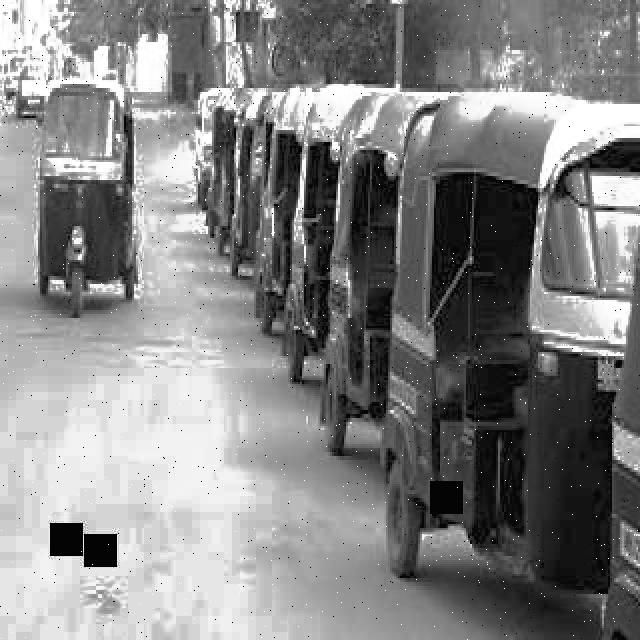Auto-Rickshaw: (200, 82, 640, 640), (32, 74, 150, 314)
